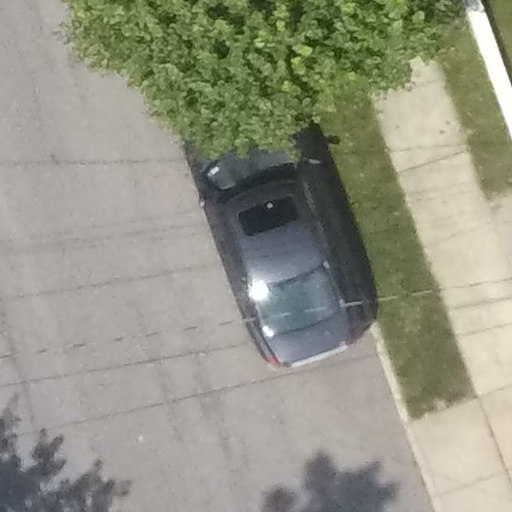car: (172, 117, 373, 370)
